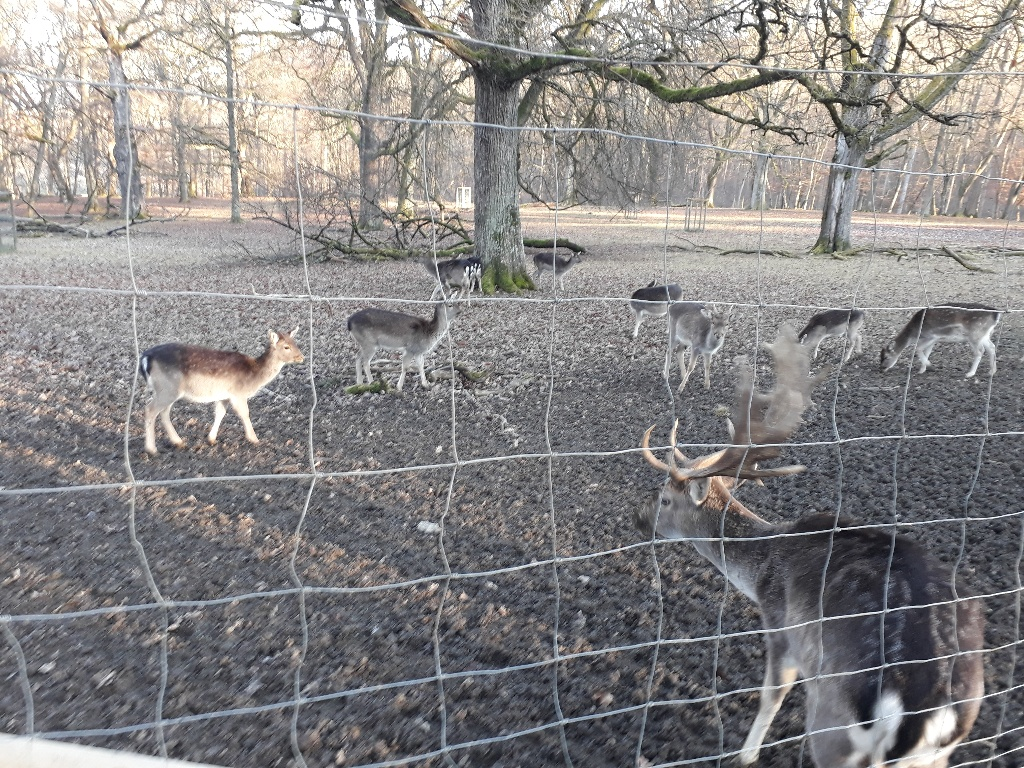Deer: (637, 328, 988, 759), (134, 327, 307, 448), (348, 300, 466, 387), (880, 306, 1000, 379), (663, 292, 737, 398)
